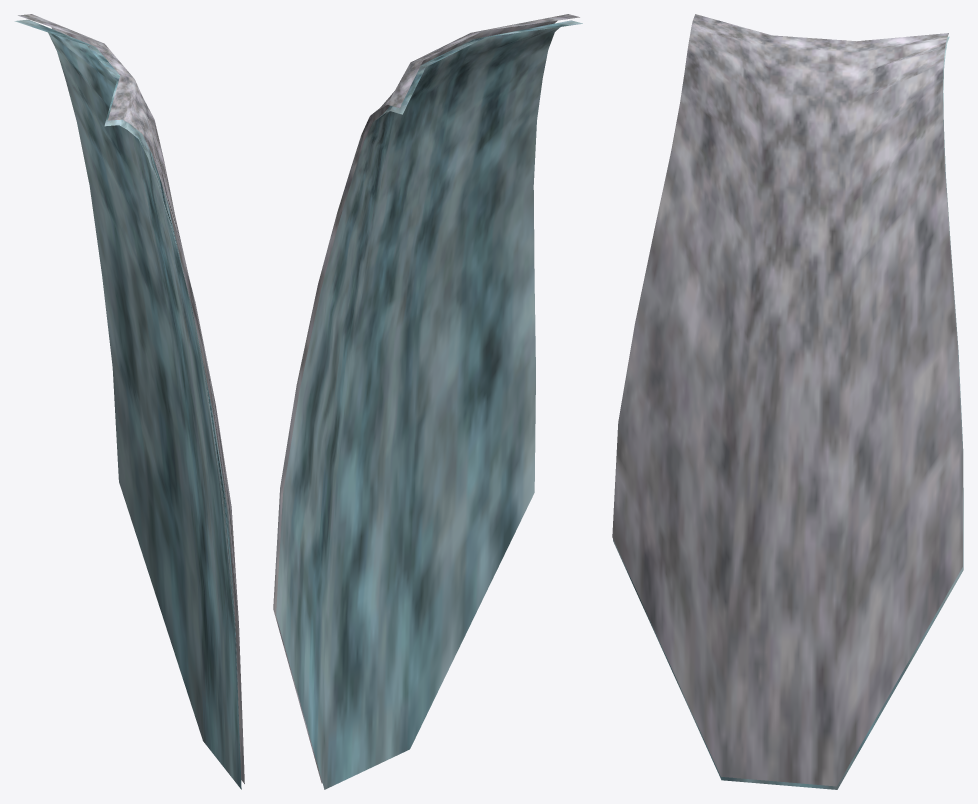
The model's file is TROLLHOLE02_WATERFALLIN.fbx.
The picture shows the model from 3 angles, left to right: view 1: azimuth 30°, elevation 25°; view 2: azimuth 150°, elevation 25°; view 3: azimuth 270°, elevation 25°; orthographic projection. The views are drawn at different scales.
Visible parts, largest first — view 1: TROLLHOLE02_WATERFALLIN; view 2: TROLLHOLE02_WATERFALLIN; view 3: TROLLHOLE02_WATERFALLIN.
Part boxes in pixels (x1,y1,x2,y2): TROLLHOLE02_WATERFALLIN: [14, 14, 244, 789]; TROLLHOLE02_WATERFALLIN: [273, 14, 582, 789]; TROLLHOLE02_WATERFALLIN: [612, 14, 963, 789].
Size of the model in its own units: 30744 by 121183 by 55108.
2 materials, 2 textured.
